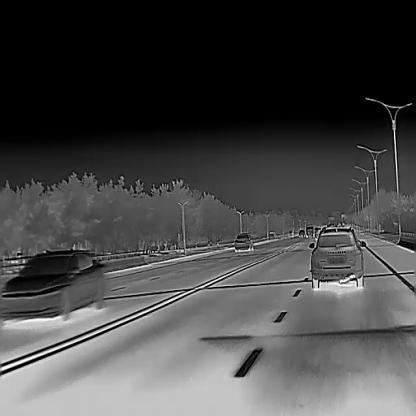car: (0, 247, 104, 321), (308, 225, 366, 288), (234, 233, 254, 250), (306, 224, 313, 238), (268, 229, 274, 238), (299, 229, 305, 237)
